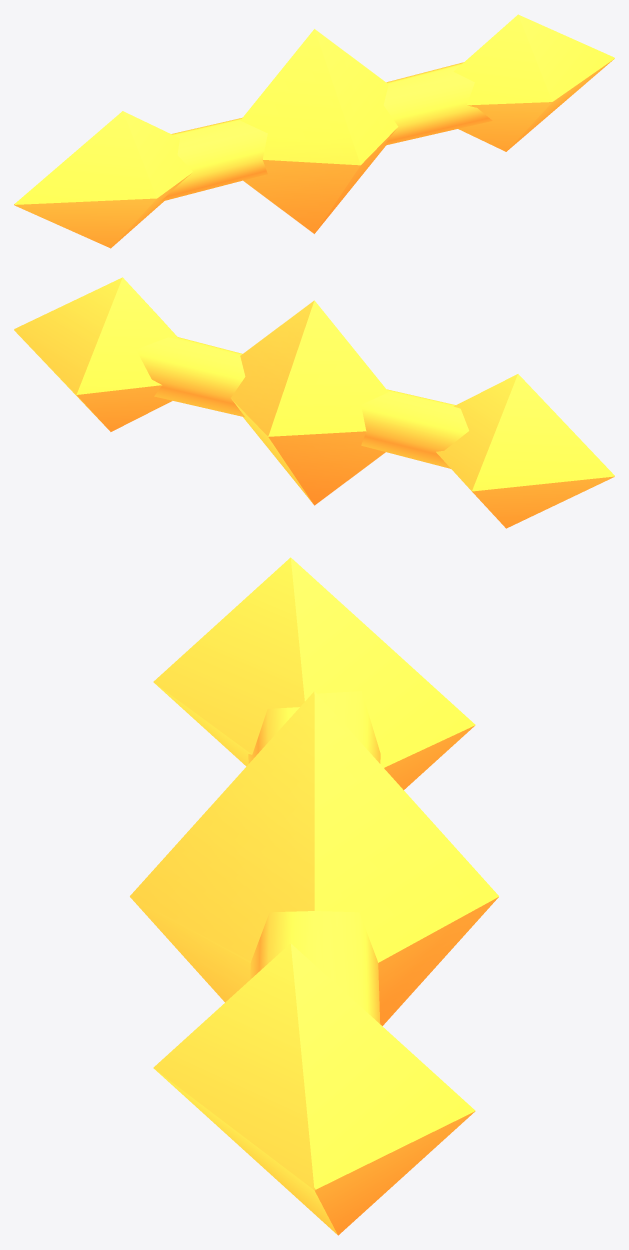
The model's file is gold_guard_005.glb.
3 renders of one model, top to bottom at view 1: azimuth 30°, elevation 25°; view 2: azimuth 150°, elevation 25°; view 3: azimuth 270°, elevation 25°, orthographic. The views are drawn at different scales.
Visible parts, largest first — view 1: gold_guard_005; view 2: gold_guard_005; view 3: gold_guard_005.
Part boxes in pixels (x1,y1,x2,y2): gold_guard_005: (14,14,614,248); gold_guard_005: (14,277,614,528); gold_guard_005: (130,557,498,1235).
Bounding box in the file's own units: 8.65 × 2.83 × 2.31.
Materials: 1 (1 with a texture image).
